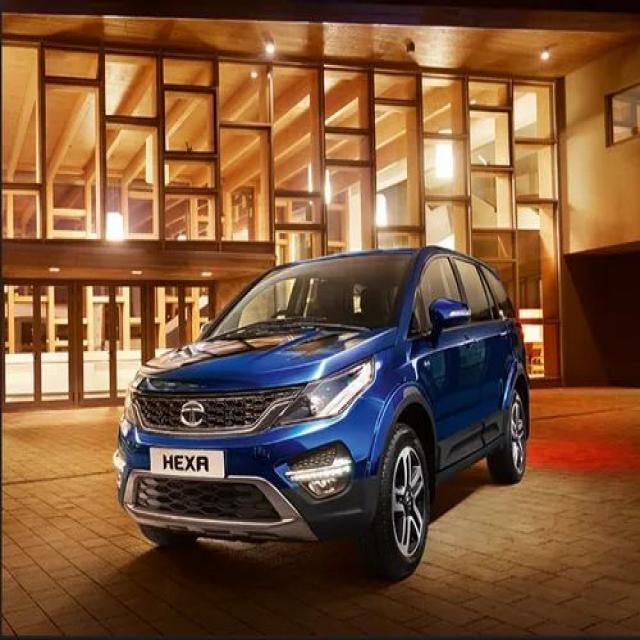Car: (111, 242, 543, 588)
